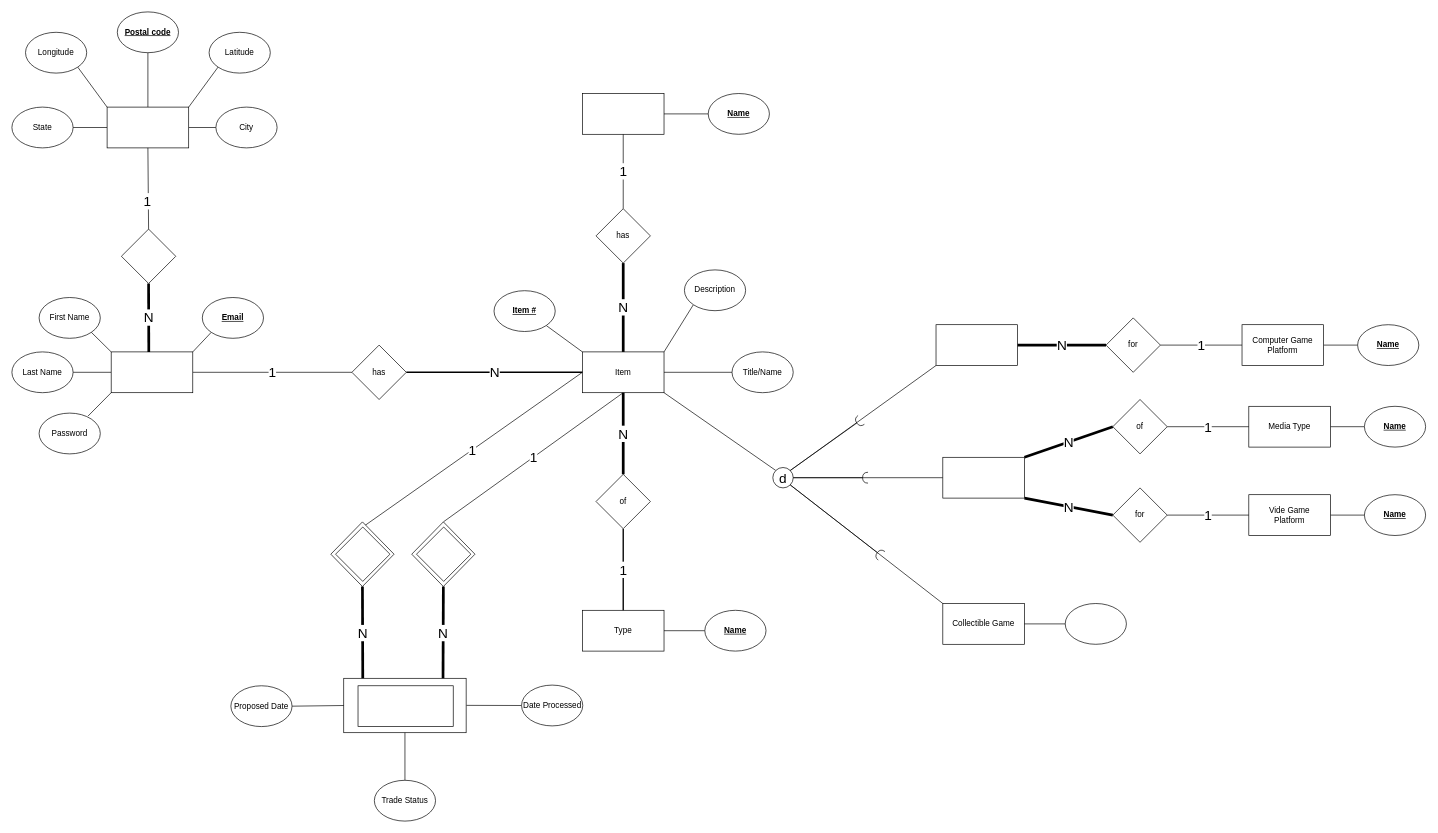
Image size: 1438x833. Some labels were removed from this diagram. Here are the shapes that lost their labels. From the top down, the centre of each, then its label:
(x=147, y=127): Location
(x=623, y=113): Condition
(x=976, y=345): Computer Game
(x=152, y=372): User
(x=983, y=477): Video Game
(x=362, y=553): Request
(x=443, y=553): Accept/ Reject
(x=1095, y=623): # Offered
(x=405, y=706): Trade
